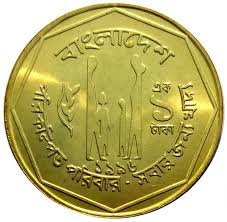1_takar_coin: (3, 3, 223, 218)
